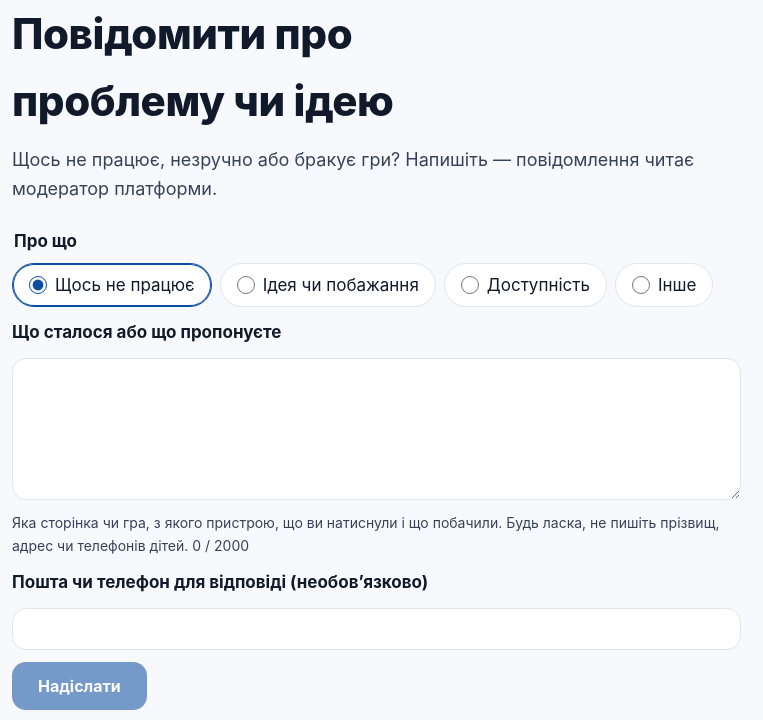
Test: форма відгуку › надсилає вид, текст, контакт і сторінку, з якої прийшли
Click the radio button labelled "Ідея чи побажання" at [246, 285], box [237, 276, 255, 294]
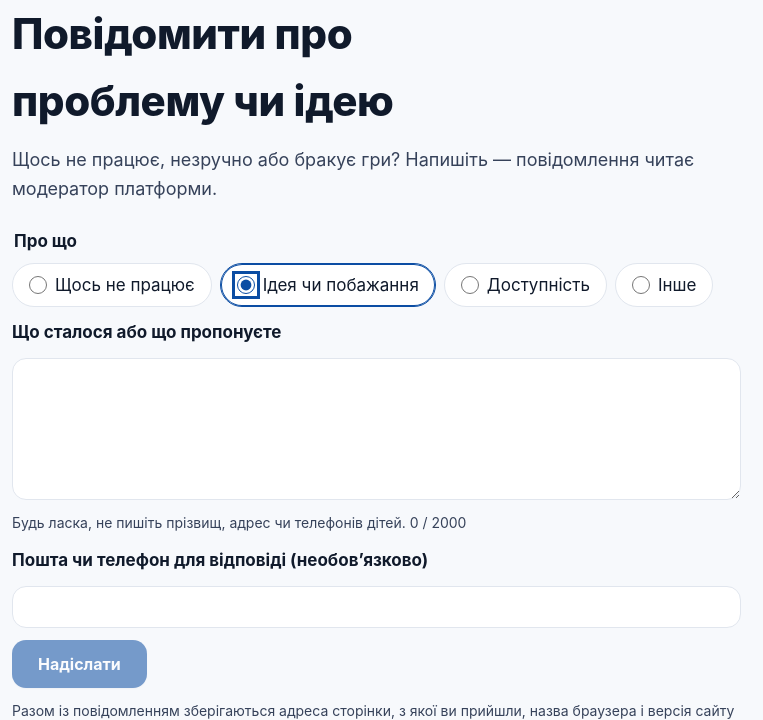
Type "Додайте гру на рими" into the text box labelled "Що сталося або що пропонуєте" at [377, 429], box [12, 358, 741, 500]
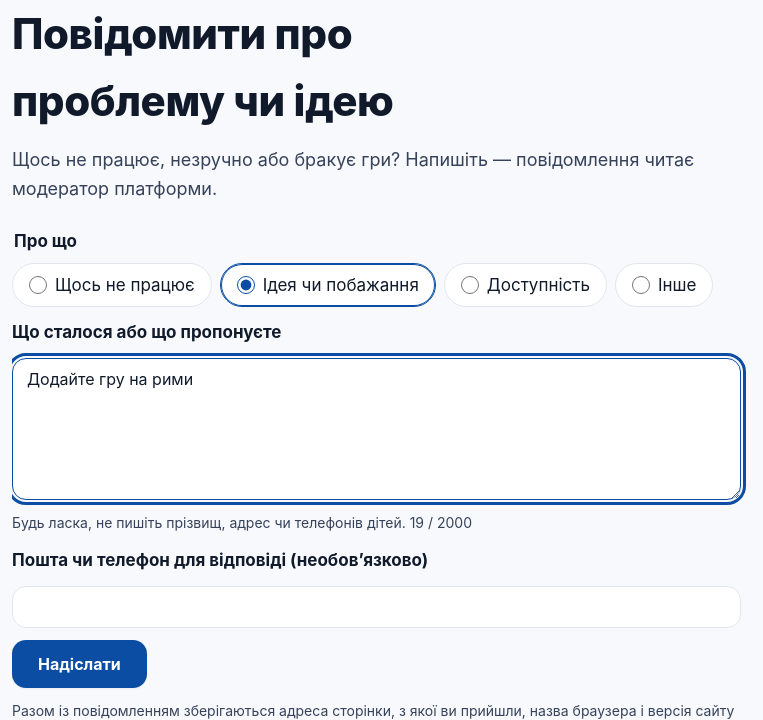
Type "mama@example.com" into the field labelled "Пошта чи телефон для відповіді (необов’язково)" at [377, 607], box [12, 586, 741, 628]
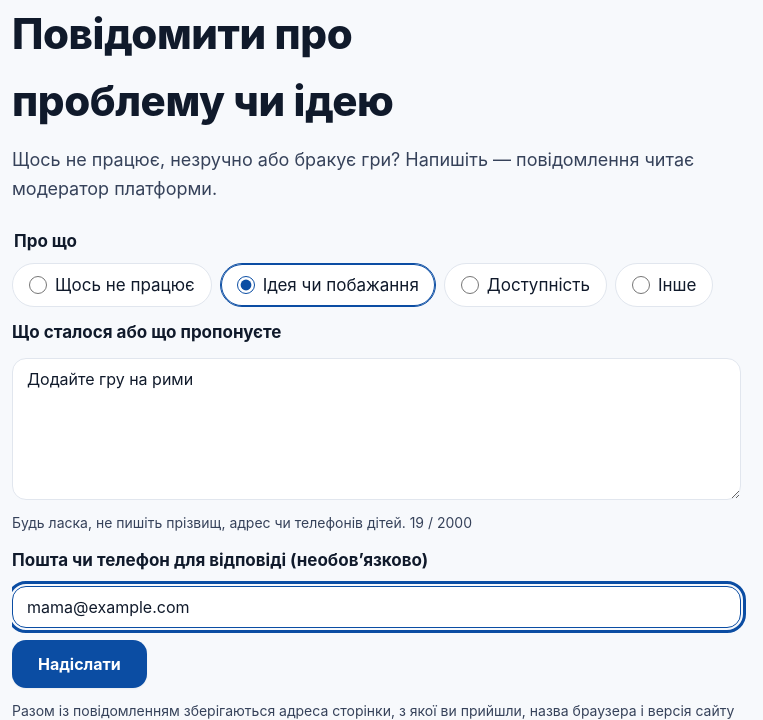
Click the button "Надіслати" at [79, 664], box [12, 640, 147, 688]
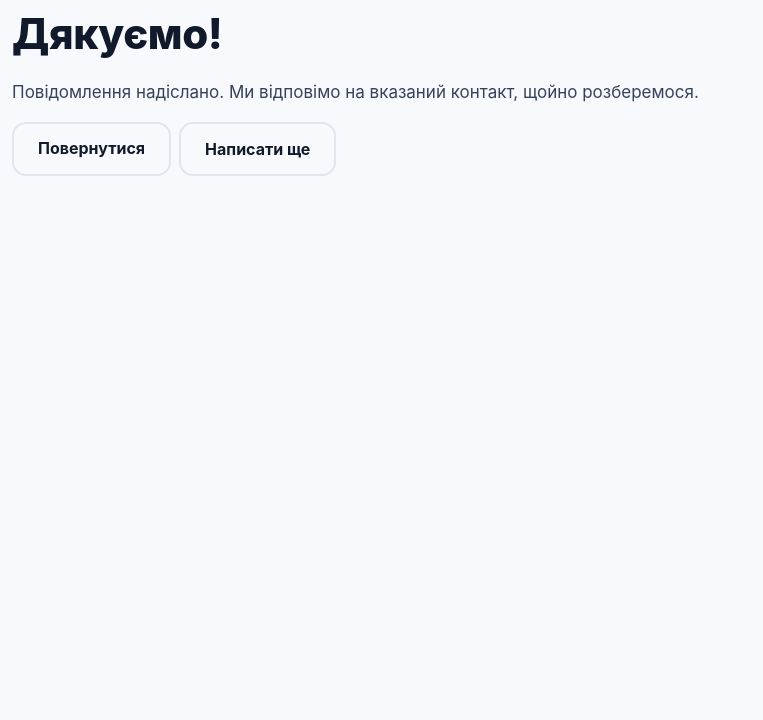
Now the heading "Дякуємо!" is shown, box [12, 8, 222, 59]
Now the message shows "відповімо", box [229, 82, 699, 102]
